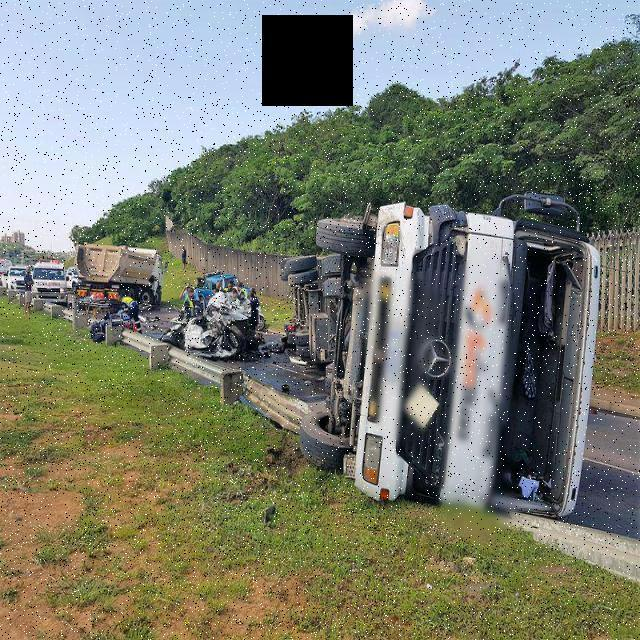accident: (267, 180, 605, 525)
